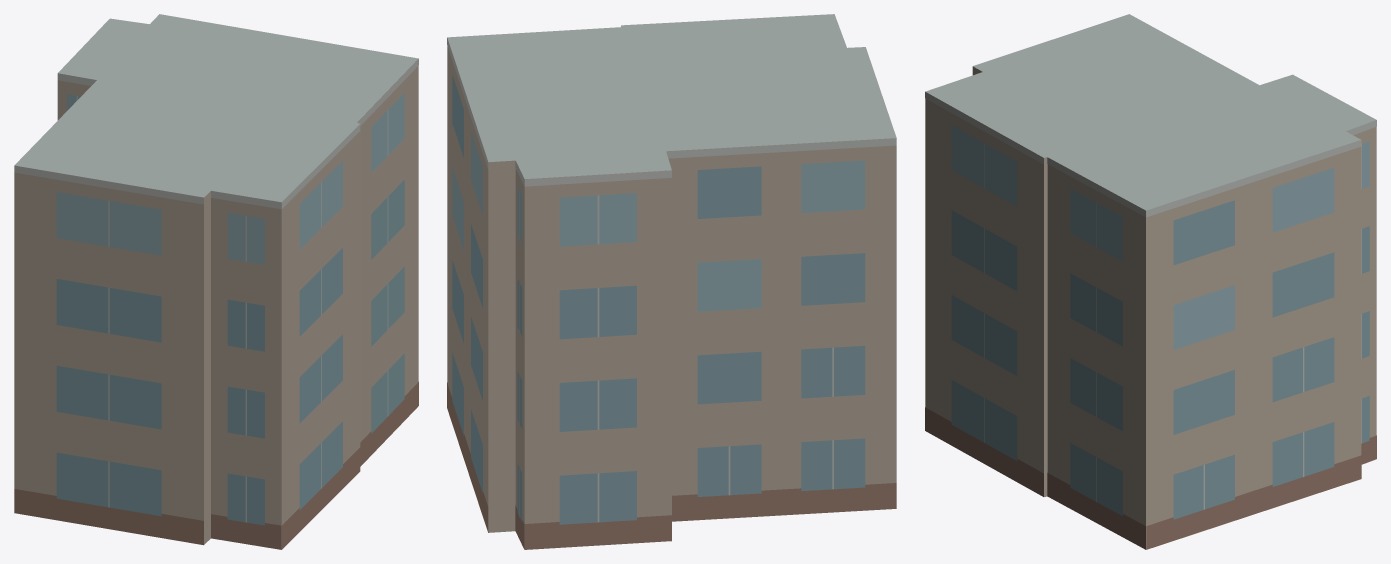
The model's file is survey-upis-32956360.glb.
The picture shows the model from 3 angles, left to right: view 1: azimuth 30°, elevation 25°; view 2: azimuth 150°, elevation 25°; view 3: azimuth 270°, elevation 25°; orthographic projection. The views are drawn at different scales.
Parts seen in each view (by area): view 1: survey-upis-32956360.tmp; view 2: survey-upis-32956360.tmp; view 3: survey-upis-32956360.tmp.
Boxes of the visible parts, x1,y1,x2,y2 form: survey-upis-32956360.tmp: (14,14,418,549); survey-upis-32956360.tmp: (447,14,896,549); survey-upis-32956360.tmp: (925,14,1376,549).
Bounding box in the file's own units: 15.15 × 12.18 × 14.7.
